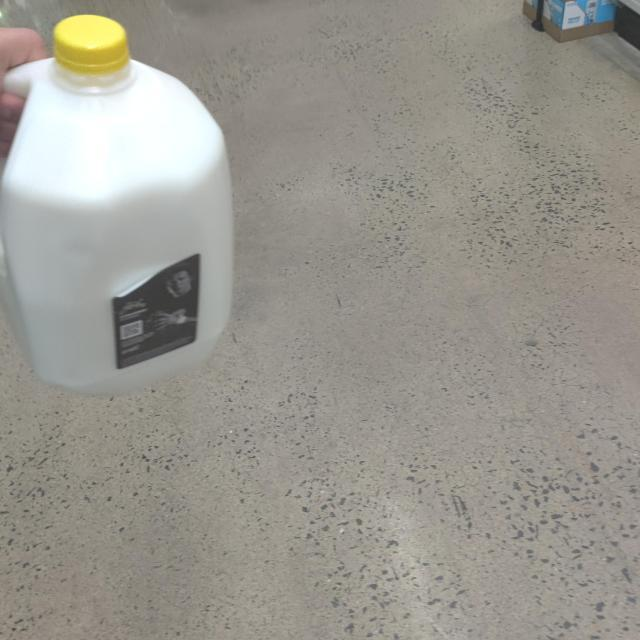milk: (0, 18, 242, 390)
